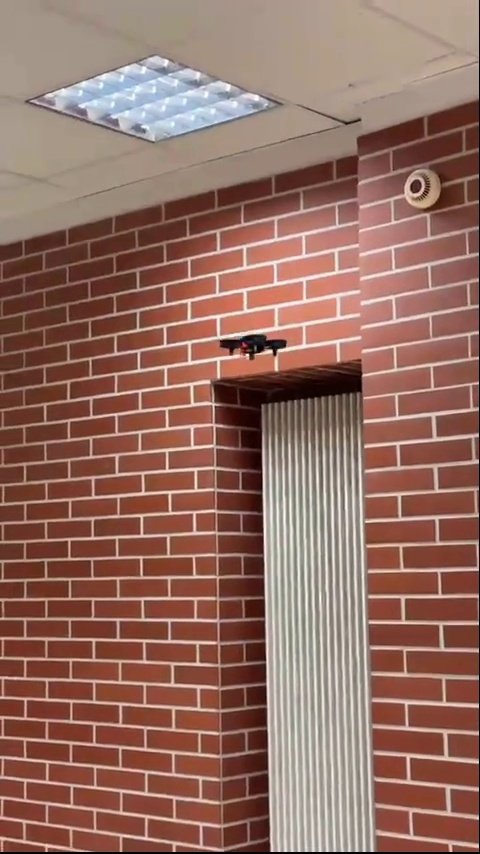drone: (220, 333, 289, 359)
